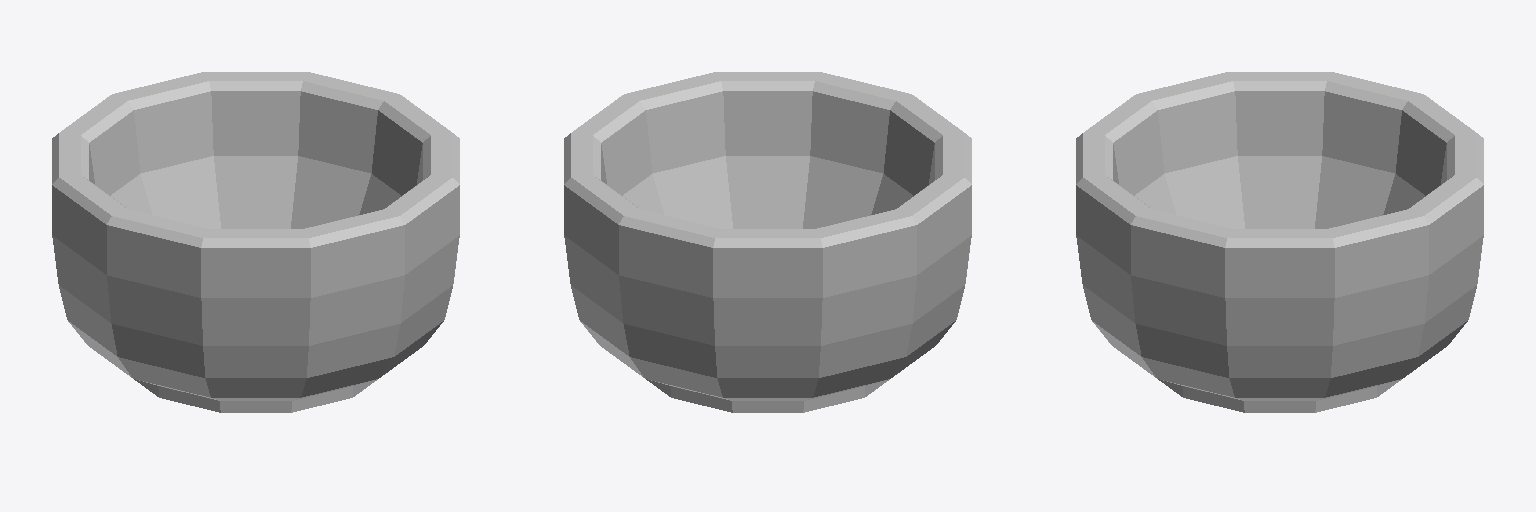
The model's file is mixing_bowl.obj.
The picture shows the model from 3 angles: view 1: azimuth 30°, elevation 25°; view 2: azimuth 150°, elevation 25°; view 3: azimuth 270°, elevation 25°; orthographic projection.
Visible parts, largest first — view 1: mixing_bowl; view 2: mixing_bowl; view 3: mixing_bowl.
Part boxes in pixels (x1,y1,x2,y2): mixing_bowl: (52,72,459,412); mixing_bowl: (564,72,971,412); mixing_bowl: (1076,72,1483,412).
Size of the model in its own units: 0.55 by 0.3 by 0.55.